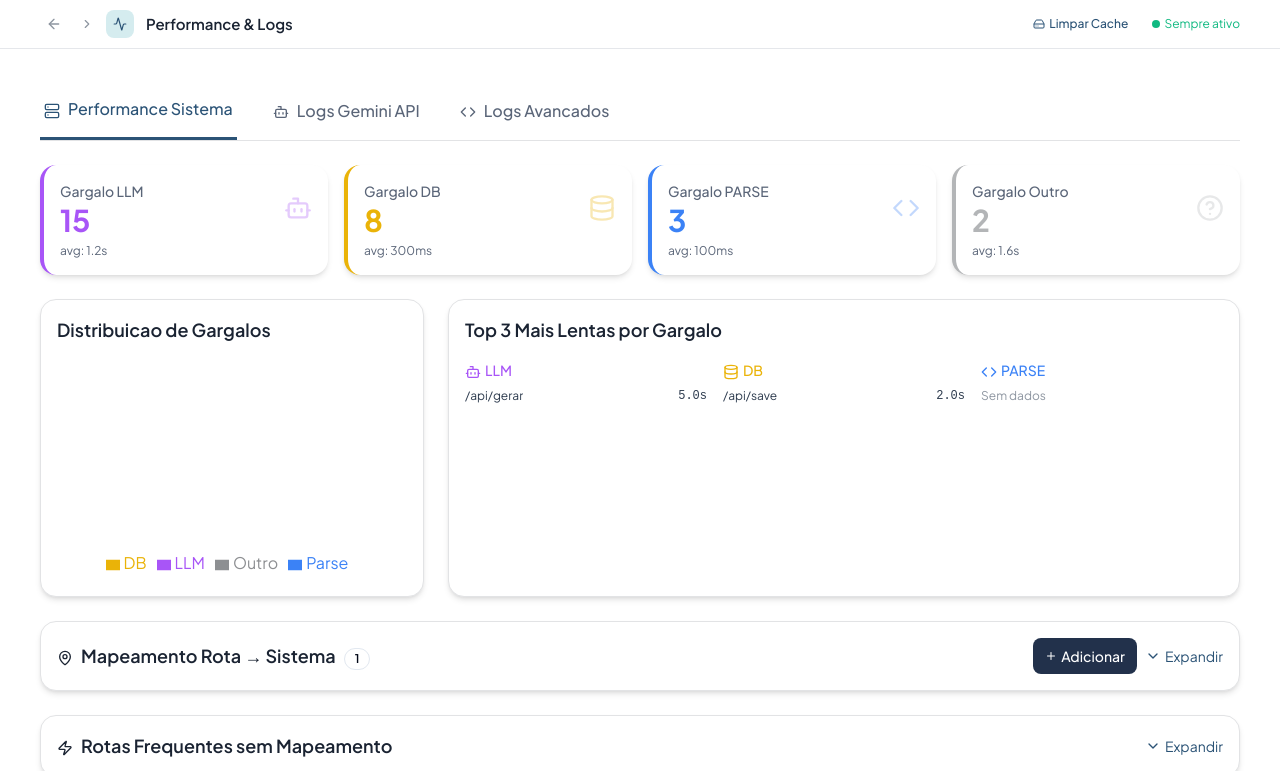
PerformancePage › deve alternar para tab Gemini e carregar dados
Expected: the heading "Gargalo LLM" is shown, top-left (60, 181), bottom-right (144, 201)
Click the button "Logs Gemini API": coordinates (346, 110) top-left (269, 81), bottom-right (424, 140)
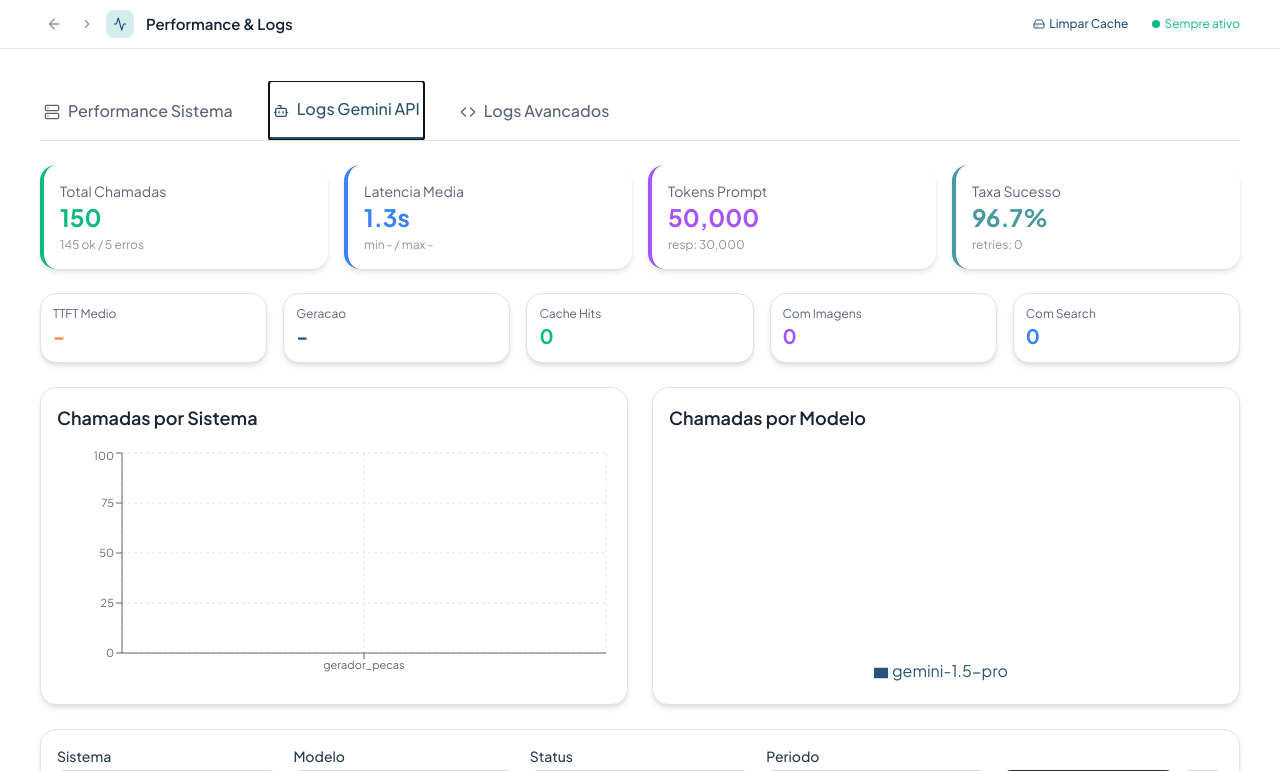
Expected: the text "Total Chamadas" is shown, top-left (60, 182), bottom-right (166, 200)
Expected: the text "Latencia Media" is shown, top-left (364, 182), bottom-right (464, 200)
Expected: the text "Taxa Sucesso" is shown, top-left (972, 182), bottom-right (1061, 200)
